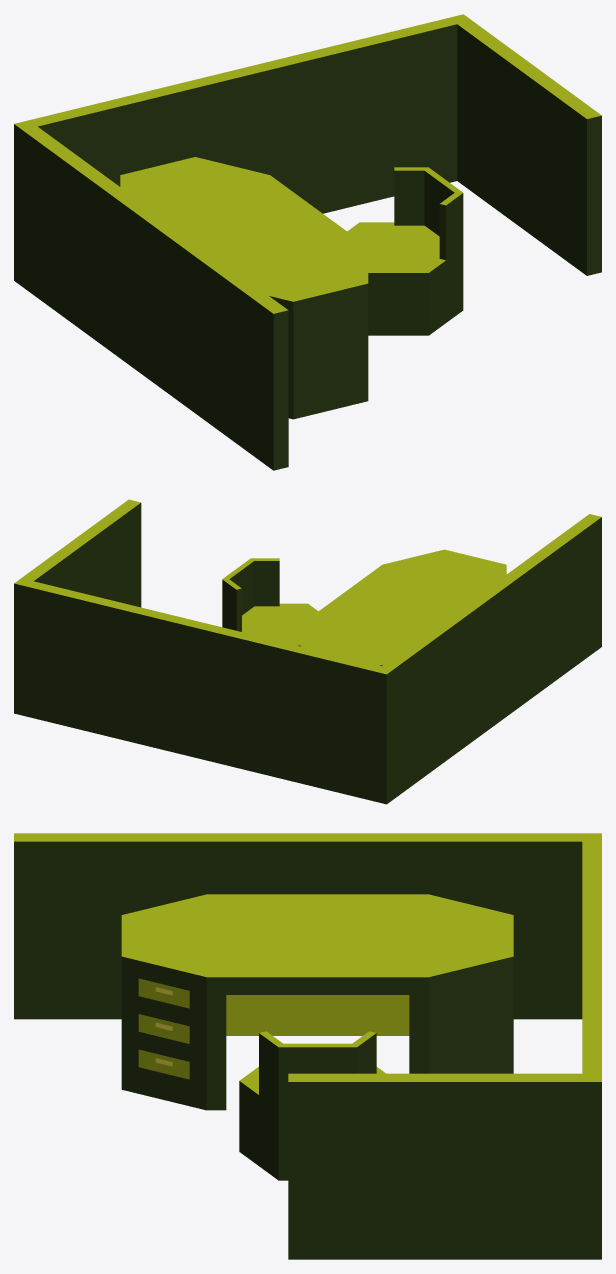
The model's file is desk.dae.
3 views of the same model, one above another, from view 1: azimuth 30°, elevation 25°; view 2: azimuth 150°, elevation 25°; view 3: azimuth 270°, elevation 25° (orthographic). The views are drawn at different scales.
Parts seen in each view (by area): view 1: SketchUp (×6); view 2: SketchUp (×5); view 3: SketchUp (×10).
Boxes of the visible parts, <box> form: SketchUp (×6): <box>14,14,601,470</box>; SketchUp (×5): <box>14,499,601,804</box>; SketchUp (×10): <box>14,833,601,1259</box>.
Size of the model in its own units: 3 by 3 by 1.
